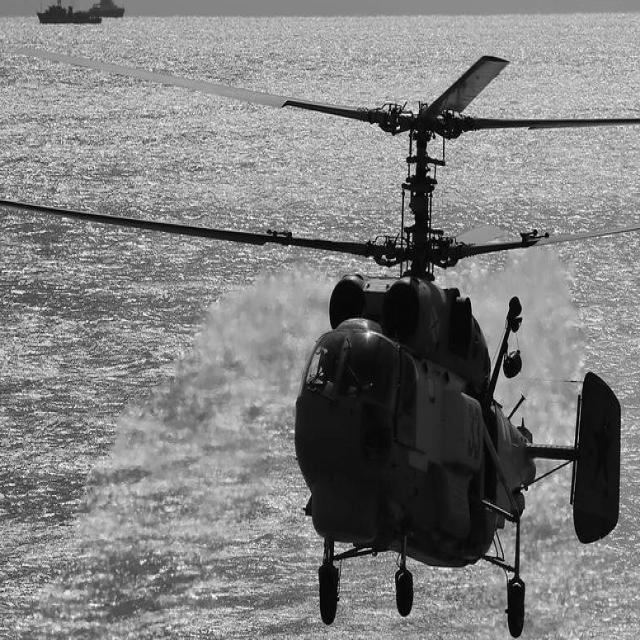helicopter: (77, 1, 640, 637)
